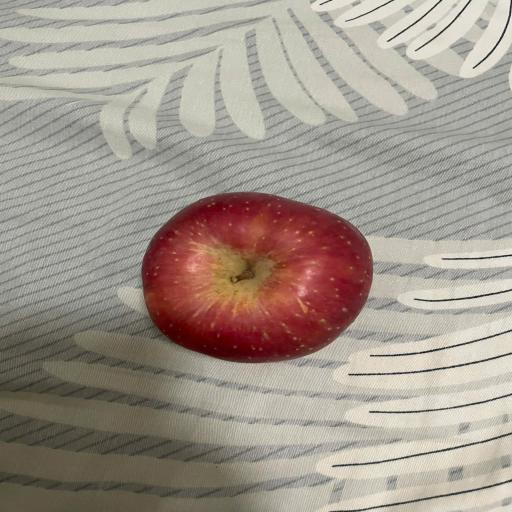apple: (141, 192, 372, 364)
